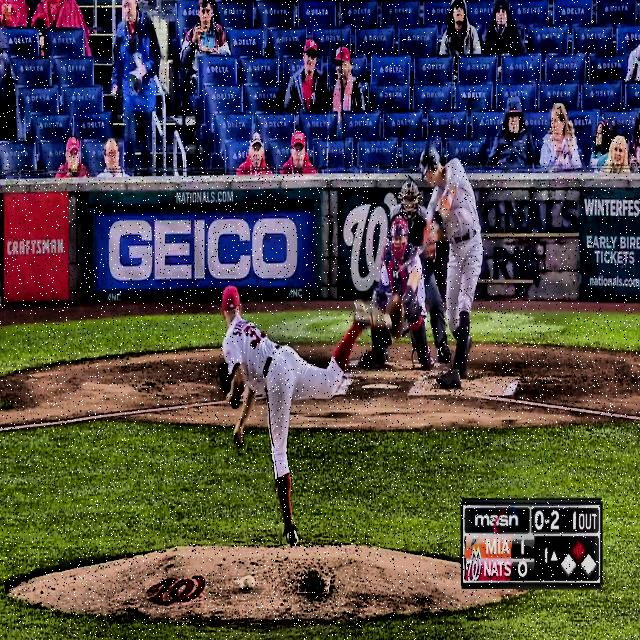baseball: (384, 310, 394, 332)
